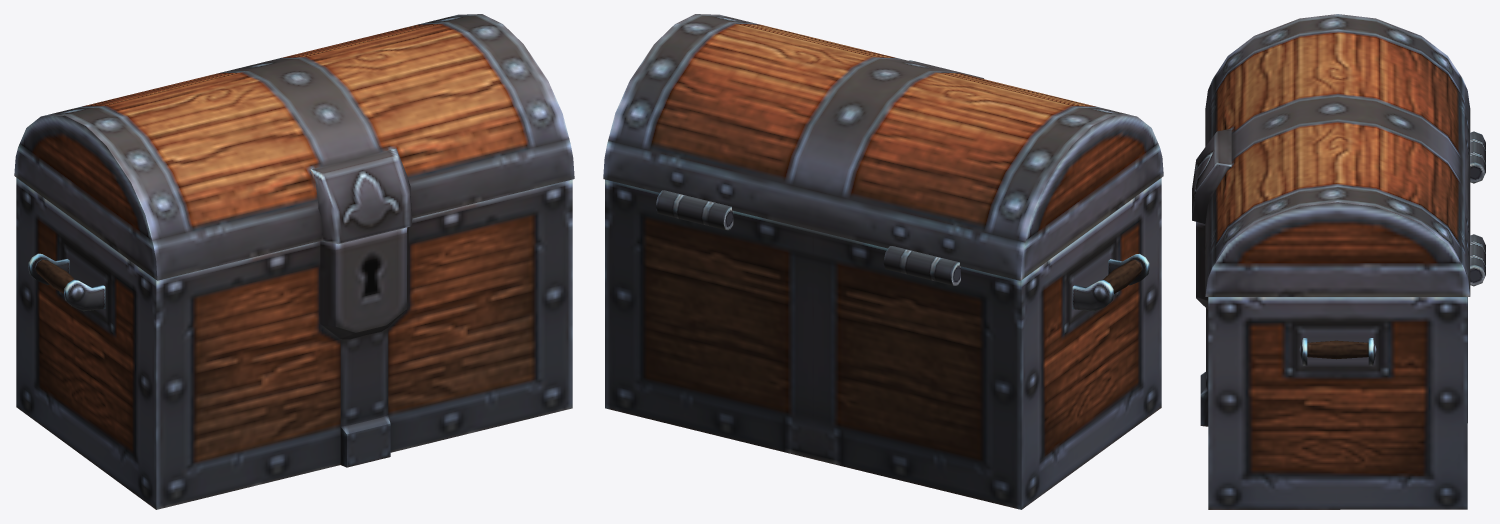
The model's file is Wooden_Chest_1.fbx.
3 renders of one model, left to right at view 1: azimuth 30°, elevation 25°; view 2: azimuth 150°, elevation 25°; view 3: azimuth 270°, elevation 25°, orthographic. The views are drawn at different scales.
Visible parts, largest first — view 1: Wooden_Chest, Wooden_Chest_CUP; view 2: Wooden_Chest, Wooden_Chest_CUP; view 3: Wooden_Chest_CUP, Wooden_Chest.
Boxes of the visible parts, x1,y1,x2,y2 form: Wooden_Chest: [16, 178, 572, 509]; Wooden_Chest_CUP: [14, 14, 574, 280]; Wooden_Chest: [605, 178, 1161, 509]; Wooden_Chest_CUP: [603, 14, 1163, 280]; Wooden_Chest_CUP: [1192, 14, 1470, 296]; Wooden_Chest: [1196, 131, 1485, 509].
Bounding box in the file's own units: 109 × 69.93 × 60.45.
